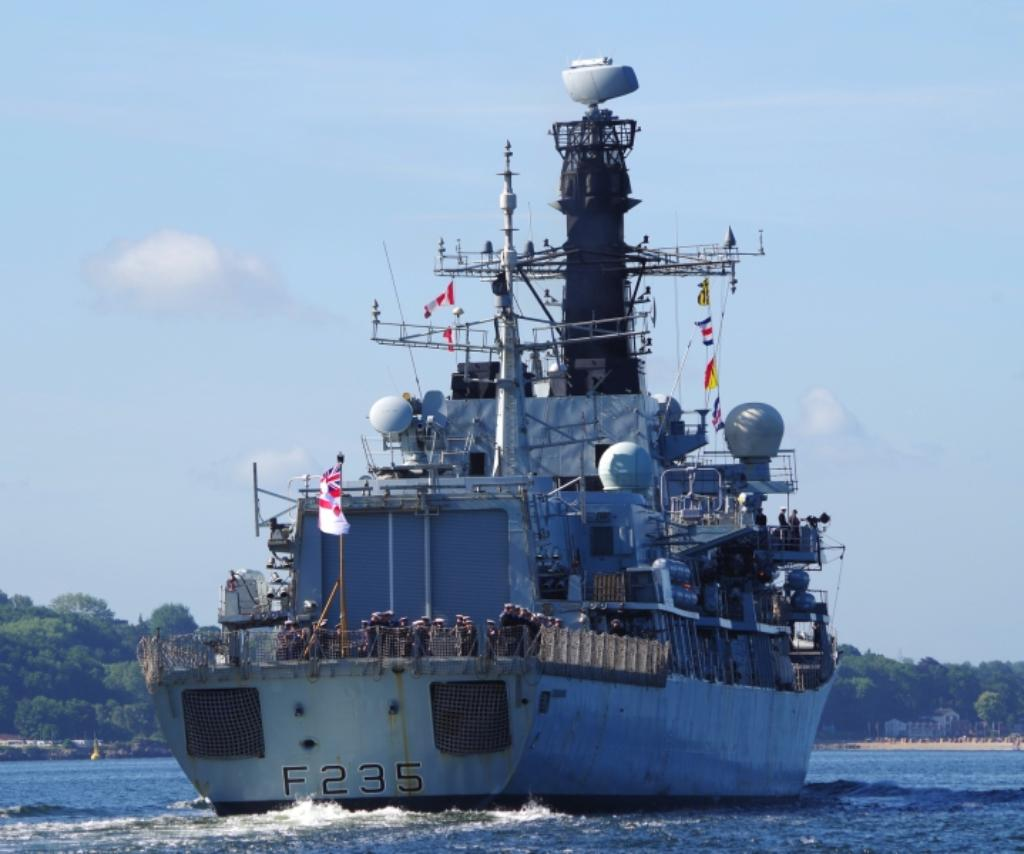Warship: (128, 24, 854, 814)
